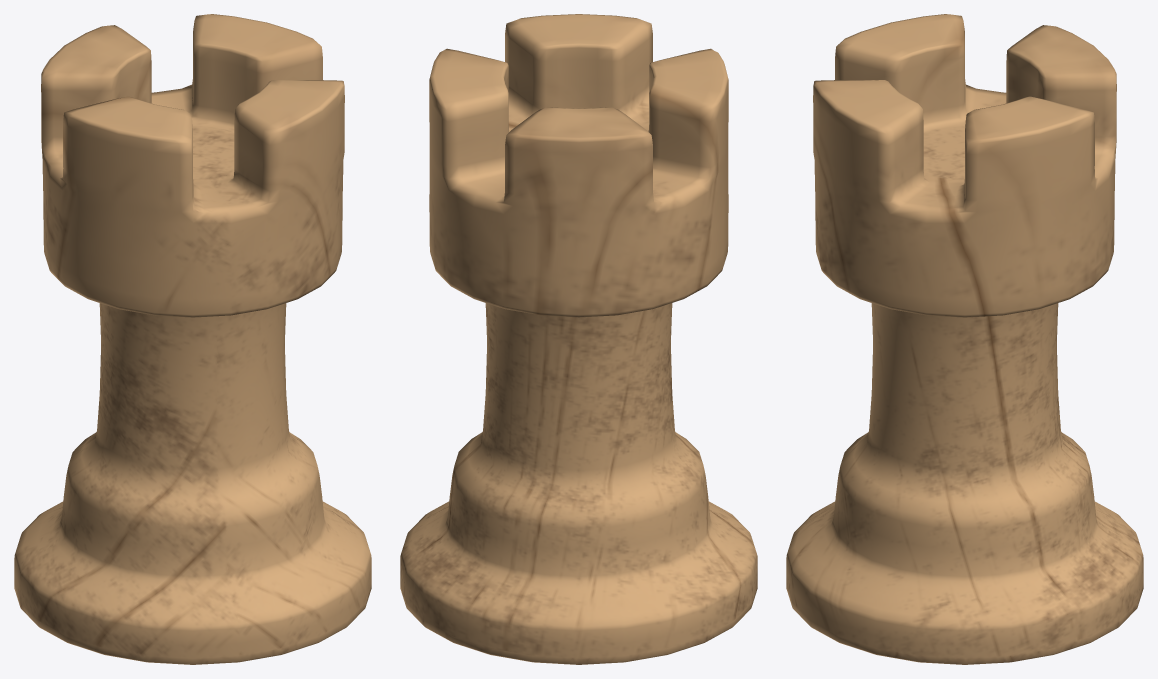
The model's file is GEO_WhiteRook_02.obj.
3 renders of one model, left to right at view 1: azimuth 30°, elevation 25°; view 2: azimuth 150°, elevation 25°; view 3: azimuth 270°, elevation 25°, orthographic.
Visible parts, largest first — view 1: GEO_WhiteRook_02; view 2: GEO_WhiteRook_02; view 3: GEO_WhiteRook_02.
Part boxes in pixels (x1=…): GEO_WhiteRook_02: x1=14, y1=14, x2=371, y2=664; GEO_WhiteRook_02: x1=400, y1=14, x2=757, y2=664; GEO_WhiteRook_02: x1=786, y1=14, x2=1143, y2=664.
Size of the model in its own units: 0.0351 by 0.0557 by 0.0351.
